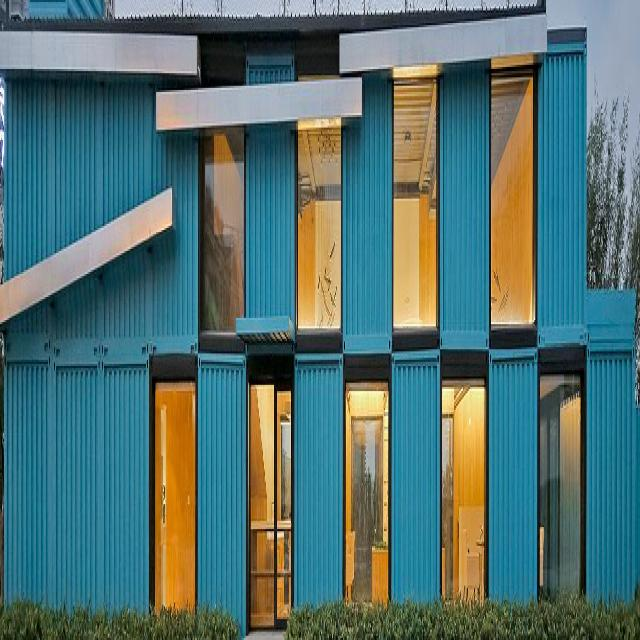door: (247, 376, 295, 631)
window: (490, 62, 535, 326), (393, 75, 439, 332), (151, 374, 197, 628), (440, 376, 487, 608), (538, 360, 582, 599), (344, 388, 391, 610), (298, 120, 341, 340), (200, 133, 244, 330)
